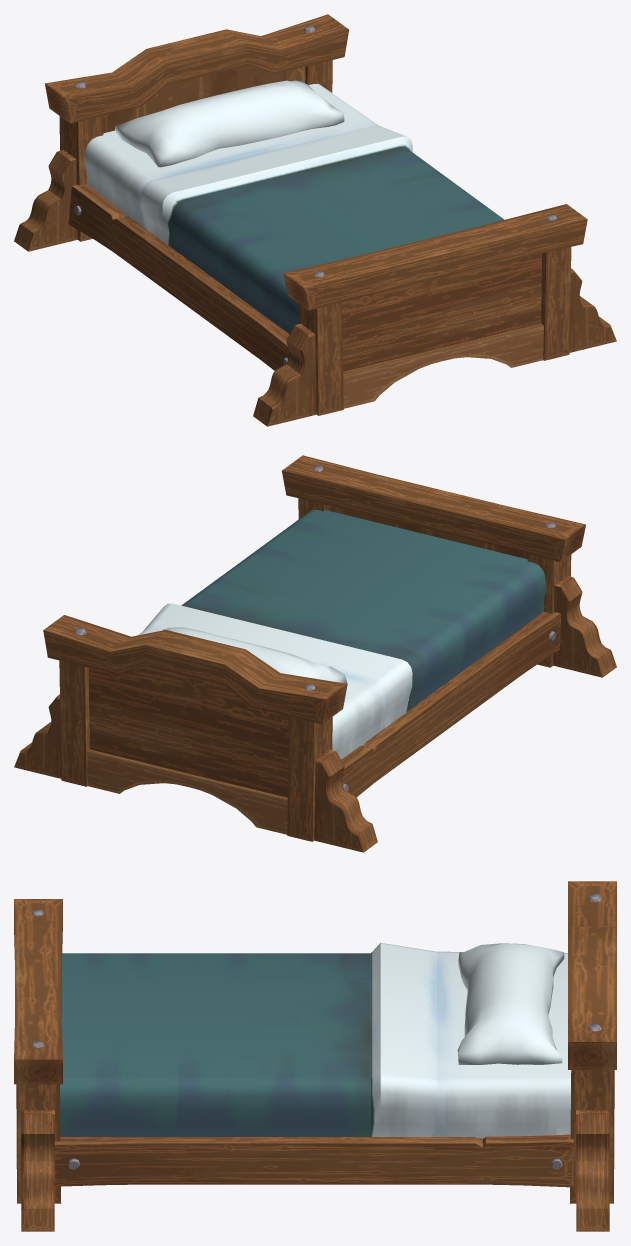
File: Bed_Twin1.gltf
The picture shows the model from 3 angles, top to bottom: view 1: azimuth 30°, elevation 25°; view 2: azimuth 150°, elevation 25°; view 3: azimuth 270°, elevation 25°; orthographic projection. The views are drawn at different scales.
Visible parts, largest first — view 1: Bed_Twin1; view 2: Bed_Twin1; view 3: Bed_Twin1.
Part boxes in pixels (<box>): Bed_Twin1: <box>14,14,616,426</box>; Bed_Twin1: <box>14,455,616,852</box>; Bed_Twin1: <box>14,881,616,1231</box>.
Size of the model in its own units: 1.88 by 0.8051 by 2.41.
3 materials, 3 textured.
